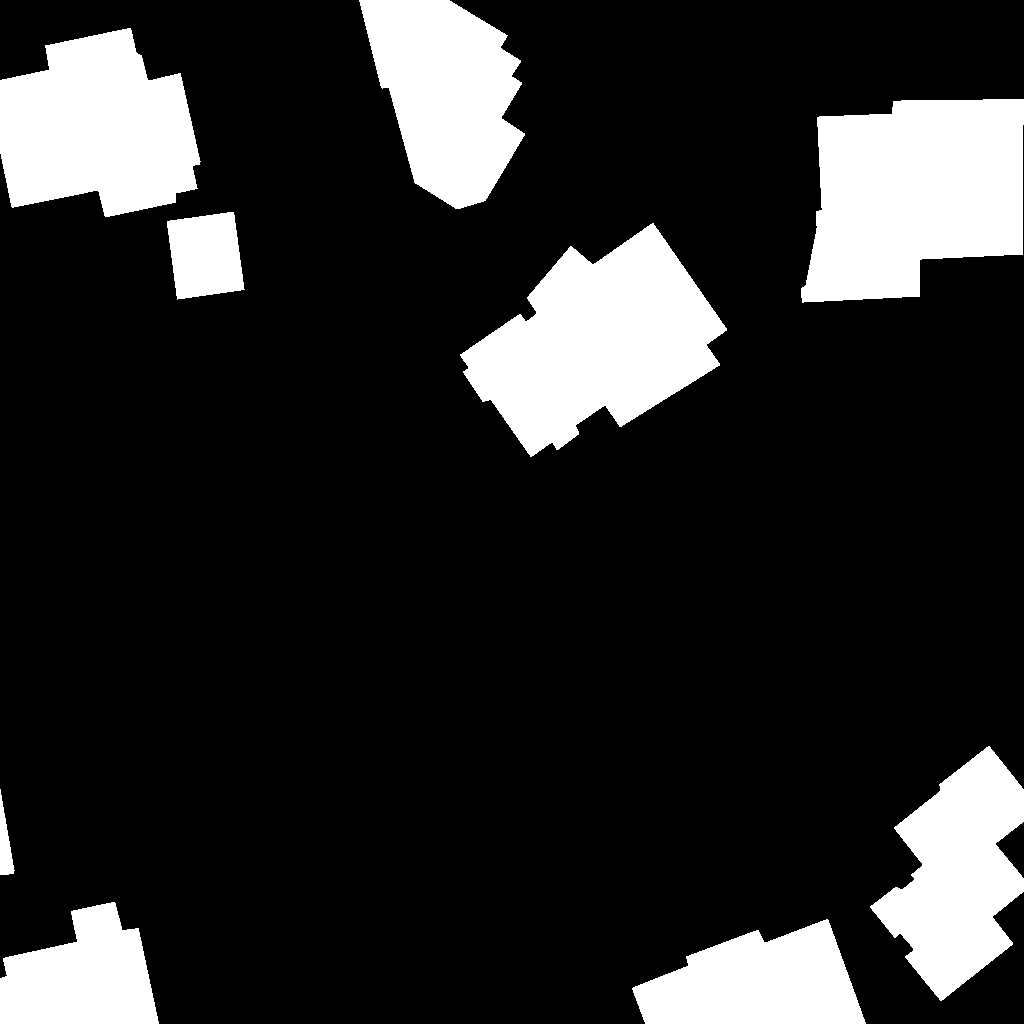building: (460, 223, 728, 458), (801, 99, 1024, 303), (870, 746, 1024, 1002), (0, 28, 201, 218), (359, 0, 526, 210), (632, 919, 867, 1024), (0, 902, 160, 1024), (167, 212, 245, 300), (0, 787, 15, 876)
